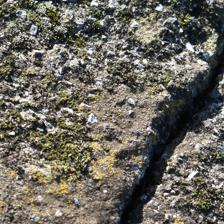Crack: (56, 32, 164, 192)
